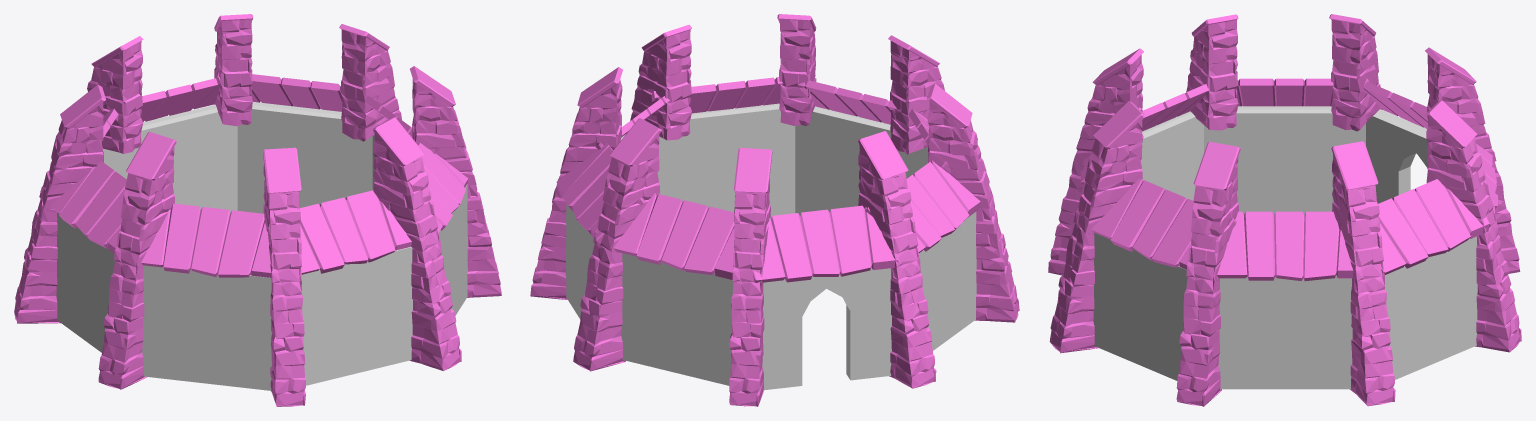
Rendered from SM_Tower_Round_9m_Entrance_Fantasy_Base.fbx.
3 renders of one model, left to right at view 1: azimuth 30°, elevation 25°; view 2: azimuth 150°, elevation 25°; view 3: azimuth 270°, elevation 25°, orthographic. The views are drawn at different scales.
Visible parts, largest first — view 1: SM_Tower_Round_9m_Entrance_Fantasy_Base; view 2: SM_Tower_Round_9m_Entrance_Fantasy_Base; view 3: SM_Tower_Round_9m_Entrance_Fantasy_Base.
Boxes of the visible parts, x1=… form: SM_Tower_Round_9m_Entrance_Fantasy_Base: x1=14, y1=14, x2=501, y2=406; SM_Tower_Round_9m_Entrance_Fantasy_Base: x1=530, y1=14, x2=1019, y2=406; SM_Tower_Round_9m_Entrance_Fantasy_Base: x1=1048, y1=14, x2=1521, y2=406.
Size of the model in its own units: 11.19 by 5.95 by 11.19.
